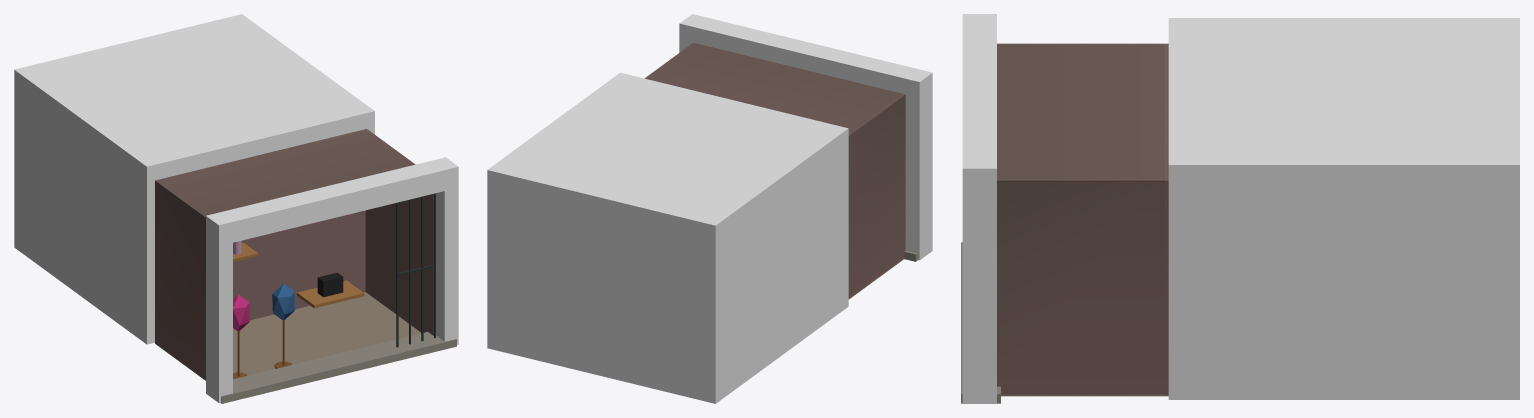
Rendered from tret_tiem_may_48.glb.
3 views of the same model, side by side, from view 1: azimuth 30°, elevation 25°; view 2: azimuth 150°, elevation 25°; view 3: azimuth 270°, elevation 25° (orthographic). The views are drawn at different scales.
Visible parts, largest first — view 1: tret_tiem_may_48; view 2: tret_tiem_may_48; view 3: tret_tiem_may_48.
Part boxes in pixels (box(x1,y1,x2,y2)): tret_tiem_may_48: box(14, 14, 458, 403); tret_tiem_may_48: box(487, 14, 932, 403); tret_tiem_may_48: box(961, 14, 1519, 403).
Size of the model in its own units: 4.8 by 3.42 by 7.32.
